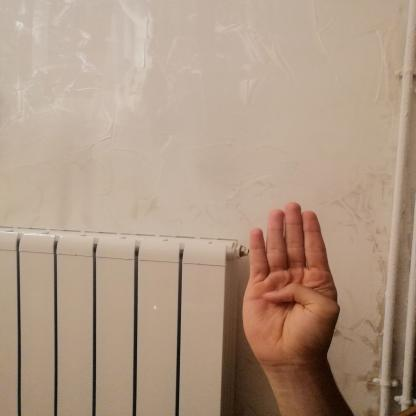KAAF: (226, 191, 355, 382)
